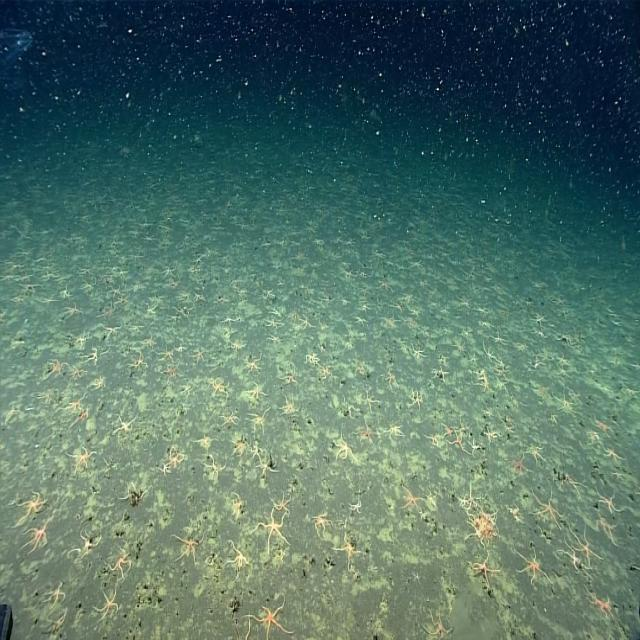brittle-stars: (241, 589, 294, 640), (250, 504, 290, 552), (510, 534, 552, 578), (331, 527, 367, 576), (20, 506, 56, 553), (567, 520, 602, 565), (463, 508, 502, 548), (528, 482, 561, 528), (419, 597, 454, 640), (170, 523, 207, 562), (556, 538, 592, 578), (470, 551, 505, 590), (12, 487, 47, 524), (67, 524, 102, 558), (106, 536, 132, 580), (332, 421, 359, 462), (224, 535, 250, 577), (584, 585, 614, 621), (66, 441, 98, 474), (92, 574, 120, 611), (576, 613, 614, 640), (593, 509, 619, 546), (594, 484, 624, 516), (110, 405, 139, 437), (460, 476, 486, 511), (444, 422, 471, 454), (554, 463, 586, 490), (400, 483, 424, 518), (551, 384, 579, 414), (231, 419, 255, 452), (503, 453, 534, 478), (351, 412, 375, 444), (42, 575, 67, 605), (246, 405, 271, 434), (268, 487, 291, 516), (276, 388, 301, 414), (43, 604, 69, 629), (550, 322, 576, 347), (256, 446, 280, 472), (202, 446, 227, 470), (42, 356, 70, 377), (57, 391, 86, 411), (586, 406, 610, 430), (157, 359, 181, 382), (522, 439, 546, 462), (132, 482, 158, 503), (339, 386, 360, 412), (190, 429, 217, 449), (311, 509, 333, 533), (68, 404, 89, 428), (94, 293, 116, 315), (244, 378, 268, 398), (211, 372, 230, 396), (218, 406, 240, 426), (66, 361, 88, 381), (505, 501, 525, 523), (118, 480, 140, 500), (75, 342, 98, 361), (2, 400, 21, 423), (230, 487, 244, 518), (280, 362, 298, 386), (598, 442, 623, 459), (359, 378, 374, 406), (377, 311, 399, 330), (61, 299, 83, 318), (487, 326, 509, 345), (441, 419, 460, 441), (406, 378, 422, 404), (167, 444, 185, 467), (71, 326, 89, 349), (381, 366, 400, 387), (468, 362, 486, 384), (100, 316, 122, 334), (348, 484, 362, 512), (480, 331, 495, 357), (155, 342, 174, 362), (126, 354, 148, 371), (218, 309, 241, 325), (77, 268, 96, 287), (244, 348, 262, 368), (461, 259, 476, 283), (422, 429, 443, 446), (249, 432, 265, 454), (382, 422, 404, 438), (455, 414, 471, 436), (288, 244, 307, 262), (532, 377, 550, 396), (102, 456, 120, 475), (526, 310, 544, 328), (158, 263, 176, 281), (408, 341, 427, 358), (483, 421, 498, 442), (136, 332, 158, 346), (432, 364, 450, 381), (405, 255, 424, 271), (186, 252, 205, 268), (158, 229, 174, 248), (36, 380, 56, 395), (17, 279, 42, 291), (466, 433, 479, 456), (316, 360, 332, 378), (448, 332, 466, 348), (454, 292, 472, 308), (493, 371, 508, 390), (491, 356, 514, 368), (263, 309, 284, 322), (304, 349, 320, 366), (188, 346, 205, 362), (552, 354, 569, 370), (374, 272, 392, 287), (112, 287, 130, 302), (36, 294, 63, 304), (36, 268, 58, 280), (354, 294, 370, 310), (288, 316, 304, 332), (404, 296, 420, 312), (369, 246, 385, 262), (470, 299, 486, 315), (176, 208, 192, 224), (297, 312, 313, 327), (88, 374, 104, 389), (616, 384, 636, 396), (230, 338, 247, 352), (343, 316, 355, 335), (130, 278, 146, 292), (527, 356, 545, 368), (60, 280, 72, 298), (144, 296, 158, 311), (178, 379, 192, 394), (172, 339, 188, 352), (339, 261, 356, 273), (261, 281, 275, 295), (436, 342, 448, 358), (112, 266, 128, 278), (159, 456, 170, 473), (352, 357, 363, 374), (337, 287, 351, 300), (358, 279, 371, 293), (331, 231, 344, 245), (420, 248, 435, 260), (465, 344, 476, 360), (351, 310, 368, 320), (9, 294, 26, 304), (357, 223, 371, 235), (260, 236, 272, 250), (408, 423, 419, 438), (191, 288, 206, 299), (396, 286, 414, 295), (227, 274, 245, 283), (266, 326, 282, 336), (411, 568, 420, 584), (215, 288, 228, 299), (437, 303, 450, 314), (458, 320, 468, 333), (480, 373, 490, 386), (548, 410, 558, 423), (317, 290, 333, 298), (139, 229, 157, 236), (515, 339, 526, 350), (316, 336, 326, 348), (313, 236, 324, 245), (406, 215, 414, 225), (358, 263, 366, 273), (311, 261, 321, 269)
